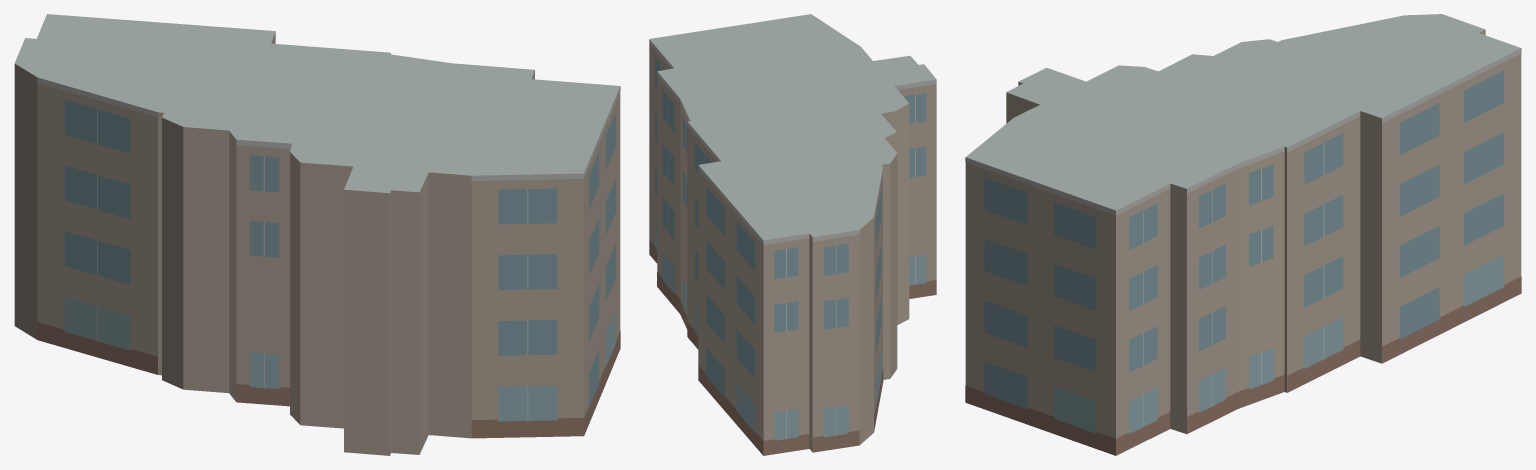
File: survey-upis-32953297.glb
The picture shows the model from 3 angles, left to right: view 1: azimuth 30°, elevation 25°; view 2: azimuth 150°, elevation 25°; view 3: azimuth 270°, elevation 25°; orthographic projection. The views are drawn at different scales.
Visible parts, largest first — view 1: survey-upis-32953297.tmp; view 2: survey-upis-32953297.tmp; view 3: survey-upis-32953297.tmp.
Boxes of the visible parts, x1,y1,x2,y2 form: survey-upis-32953297.tmp: (14, 14, 620, 455); survey-upis-32953297.tmp: (649, 14, 936, 455); survey-upis-32953297.tmp: (965, 14, 1521, 455).
Size of the model in its own units: 20.45 by 11.9 by 24.45.
